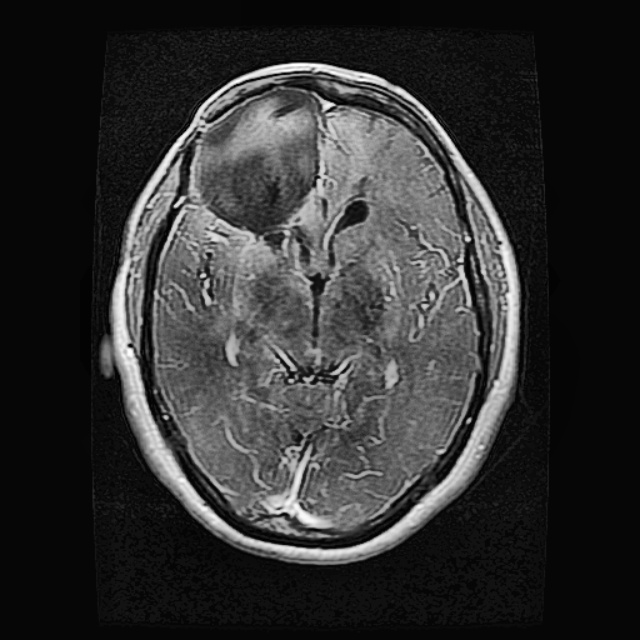Meningioma: (192, 84, 330, 263)
